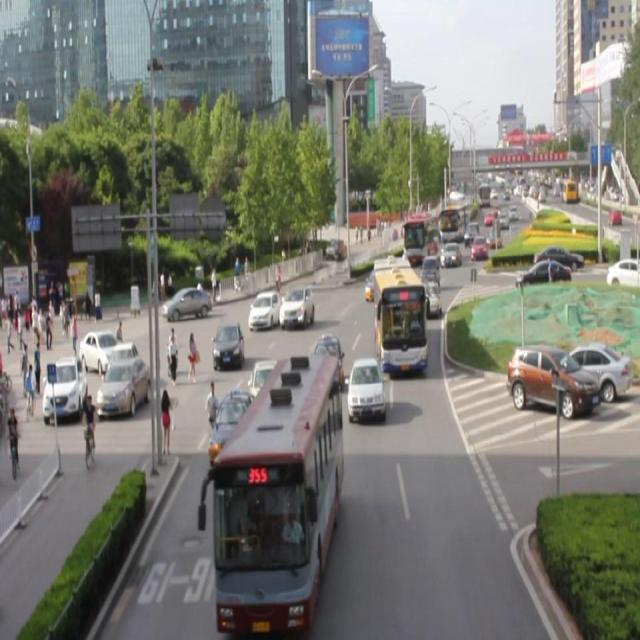car: (210, 393, 260, 473), (248, 359, 288, 420), (346, 358, 385, 419), (212, 322, 243, 374), (314, 335, 344, 388), (280, 286, 312, 332), (247, 290, 280, 334), (364, 264, 394, 304), (421, 279, 440, 317), (419, 264, 439, 296)
van: (213, 357, 338, 628), (372, 254, 427, 372)
